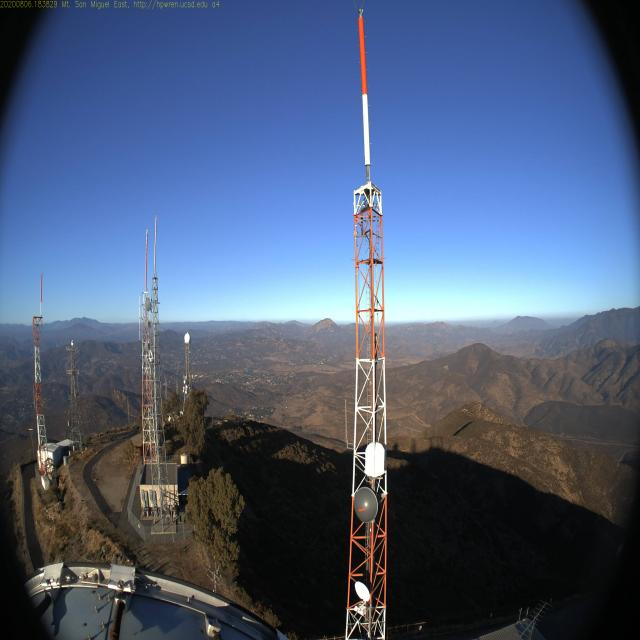smoke: (242, 359, 251, 375)
